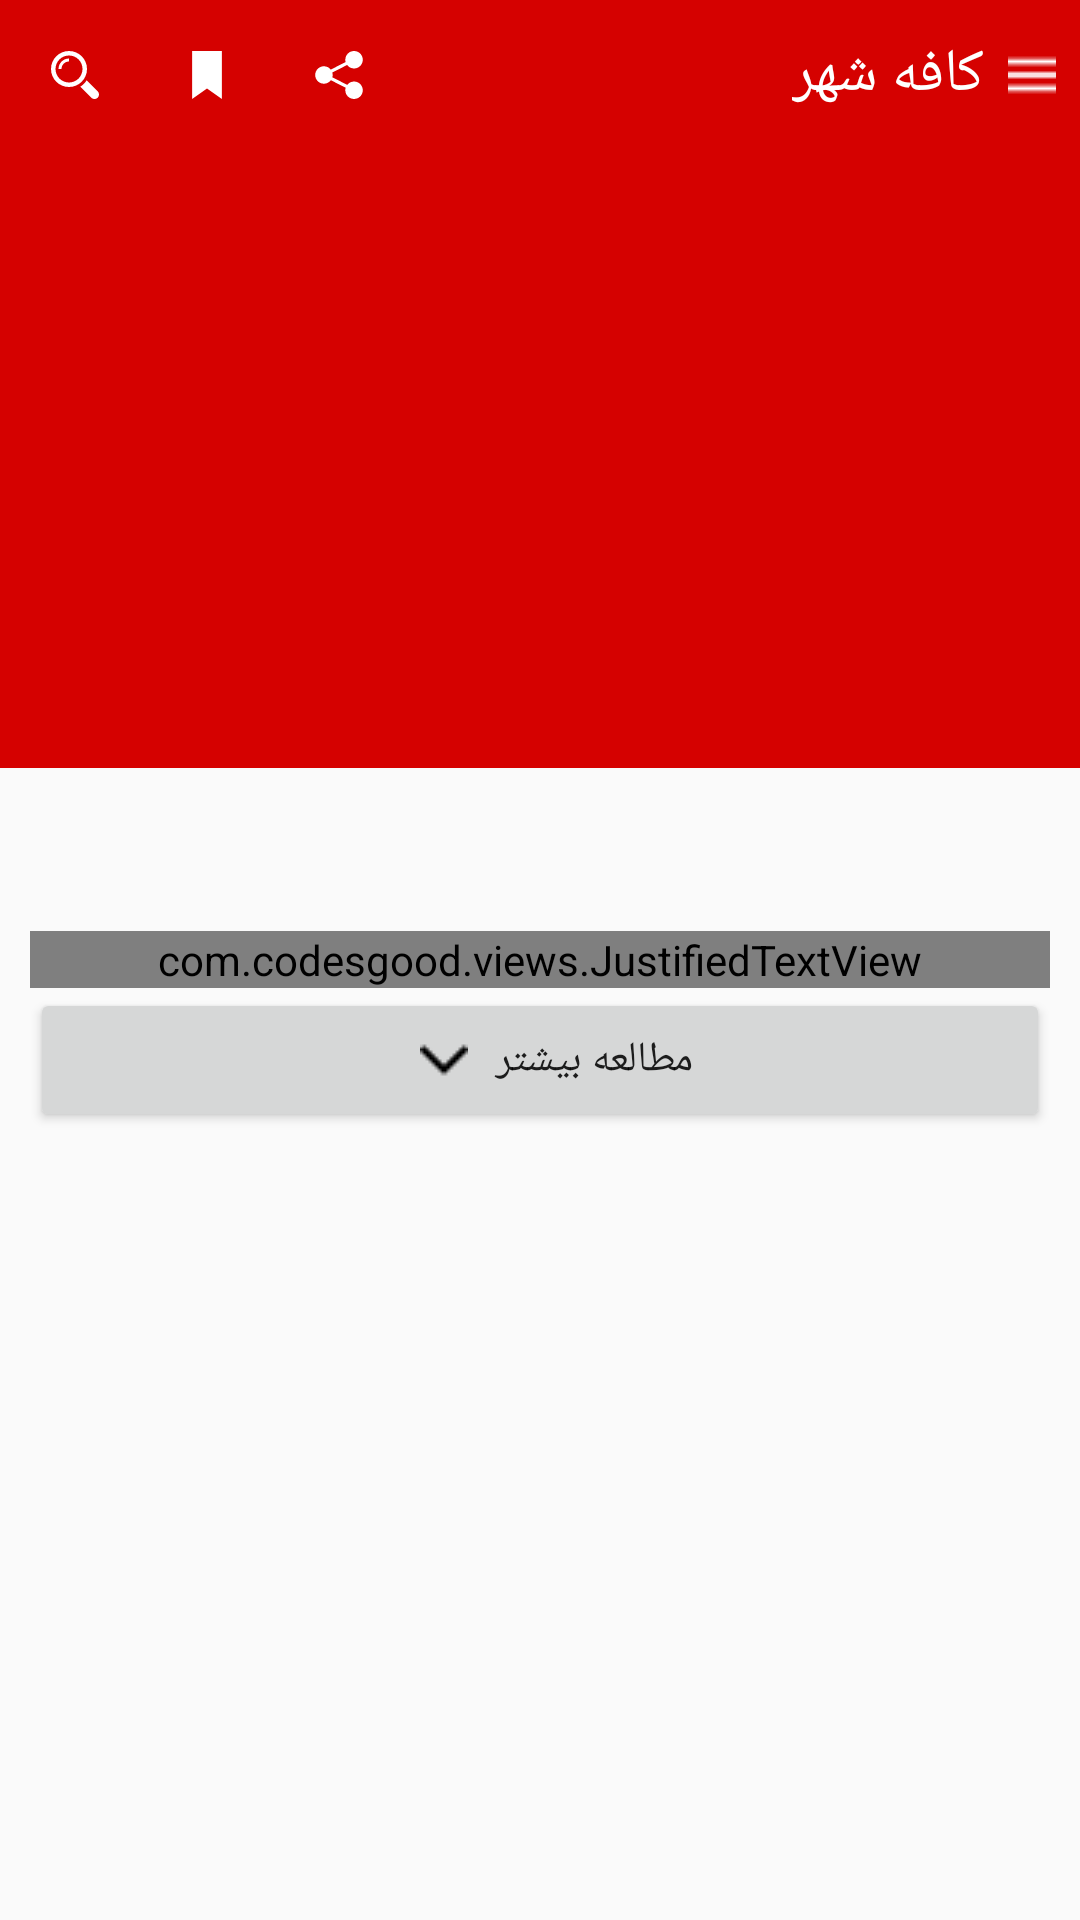

Where icons sit on this 1080 × 1920 app screen, as (x1, y1, x2, y2):
bookmark: (192, 51, 222, 99)
menu: (1008, 56, 1056, 94)
search: (51, 51, 99, 99)
share: (315, 51, 363, 99)
